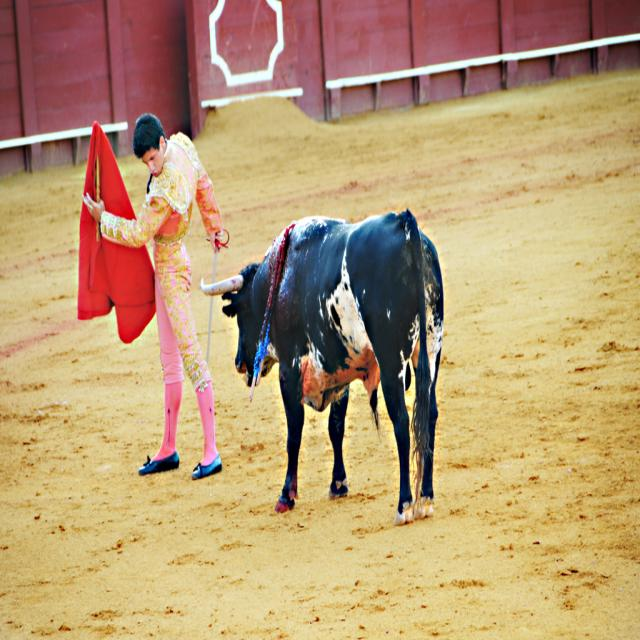Cattle: (200, 208, 444, 526)
